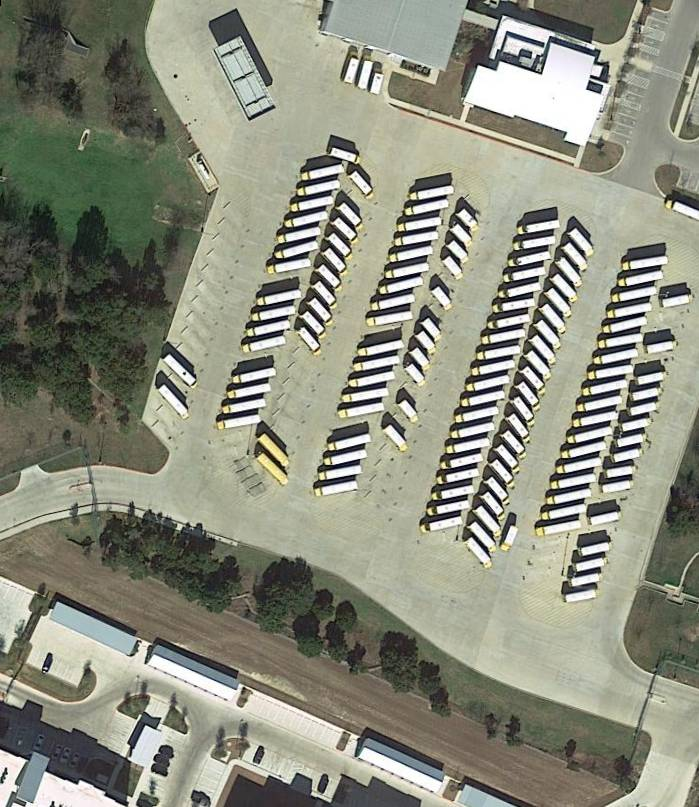large vehicle: (162, 352, 201, 390), (156, 384, 192, 422), (257, 433, 293, 468), (256, 452, 292, 487), (560, 440, 608, 462), (468, 520, 498, 554), (464, 537, 494, 570), (474, 504, 504, 537), (275, 240, 320, 262), (529, 334, 559, 367), (378, 276, 424, 297), (284, 209, 330, 230), (231, 366, 277, 387), (335, 201, 366, 232), (312, 280, 342, 312), (572, 409, 620, 429), (605, 301, 653, 321), (544, 287, 574, 319), (328, 432, 373, 453), (242, 334, 287, 355), (472, 358, 517, 379), (256, 288, 303, 308), (602, 316, 649, 336), (556, 456, 603, 476), (357, 339, 406, 358), (299, 310, 329, 341), (525, 350, 554, 382), (465, 374, 511, 394), (593, 347, 639, 367), (618, 269, 664, 289), (536, 519, 582, 539), (546, 487, 592, 507), (611, 285, 659, 304), (550, 472, 598, 491), (324, 449, 369, 469), (332, 217, 362, 247), (307, 297, 337, 327), (315, 479, 360, 499), (494, 443, 523, 474), (535, 319, 564, 350), (540, 303, 569, 334), (550, 273, 579, 304), (480, 490, 508, 522), (557, 257, 585, 289), (567, 426, 614, 445), (577, 395, 624, 414), (582, 379, 629, 398), (420, 515, 464, 535), (268, 257, 312, 277), (397, 215, 443, 234), (385, 262, 431, 281), (371, 293, 417, 312), (247, 319, 293, 338), (481, 328, 527, 347), (327, 232, 356, 262), (316, 264, 345, 294), (322, 248, 350, 279), (569, 227, 597, 258), (486, 476, 514, 507), (337, 401, 385, 419), (405, 198, 450, 217), (390, 245, 435, 264), (461, 389, 506, 408), (300, 164, 345, 183), (297, 179, 342, 198), (487, 312, 532, 331), (354, 355, 401, 373), (349, 371, 396, 389), (521, 366, 549, 396), (349, 171, 377, 201), (563, 242, 590, 273), (432, 484, 476, 503), (440, 452, 484, 471), (451, 422, 495, 441), (290, 195, 334, 214), (342, 387, 391, 404), (409, 184, 455, 202), (222, 398, 268, 416), (588, 363, 634, 381), (598, 332, 644, 350), (490, 459, 517, 489), (446, 437, 491, 455), (455, 406, 500, 424), (252, 305, 297, 323), (297, 327, 324, 357), (227, 382, 272, 400), (542, 504, 587, 522), (517, 382, 543, 413), (367, 310, 414, 327), (622, 255, 669, 272), (437, 468, 481, 486), (278, 227, 322, 245), (503, 266, 547, 284), (502, 430, 529, 459), (394, 230, 440, 247), (512, 397, 538, 427), (508, 413, 533, 444), (427, 499, 470, 517), (509, 250, 552, 268), (318, 465, 363, 482), (499, 282, 541, 300), (384, 424, 410, 453), (478, 344, 522, 361), (493, 297, 536, 314), (518, 219, 561, 236), (341, 50, 361, 85), (514, 236, 557, 252), (330, 145, 362, 166), (356, 55, 375, 90), (576, 556, 612, 573), (581, 540, 615, 558), (566, 588, 603, 604), (662, 292, 695, 309), (591, 510, 624, 527), (571, 572, 605, 588), (647, 340, 680, 356), (603, 479, 636, 495), (613, 447, 645, 463), (617, 432, 649, 448), (632, 386, 664, 402), (629, 401, 660, 417), (622, 417, 655, 432), (637, 371, 670, 386), (606, 464, 639, 479)
small vehicle: (418, 314, 446, 344), (445, 236, 473, 266), (449, 220, 476, 250), (429, 283, 455, 313), (440, 253, 466, 282), (499, 522, 522, 554), (455, 206, 481, 234), (398, 397, 423, 426), (414, 328, 439, 357), (408, 346, 433, 373), (405, 361, 429, 389), (368, 68, 386, 97)
